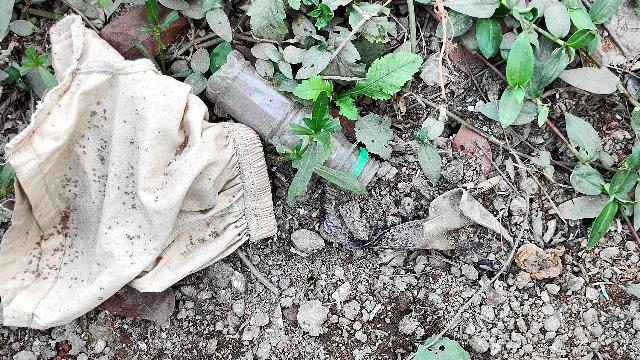bottle: (197, 42, 402, 208)
